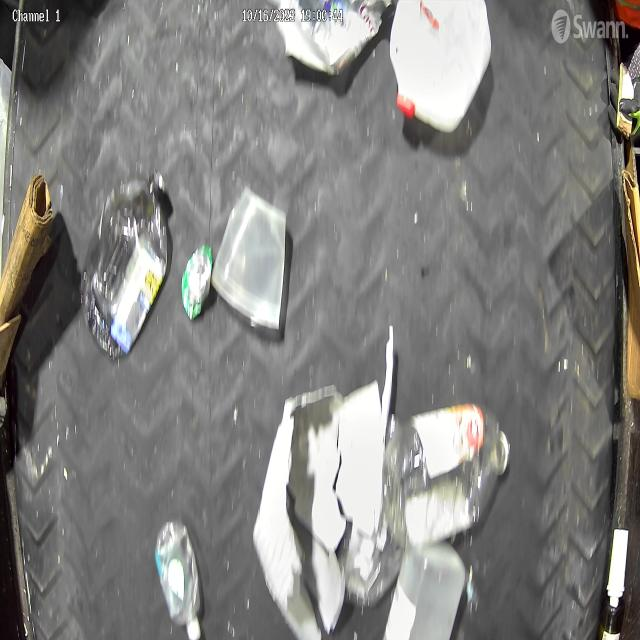can: (181, 244, 214, 321)
milk_jug: (390, 0, 491, 130), (382, 542, 466, 640)
plastic_bottle: (385, 406, 510, 546), (80, 168, 168, 360), (154, 517, 202, 640)
